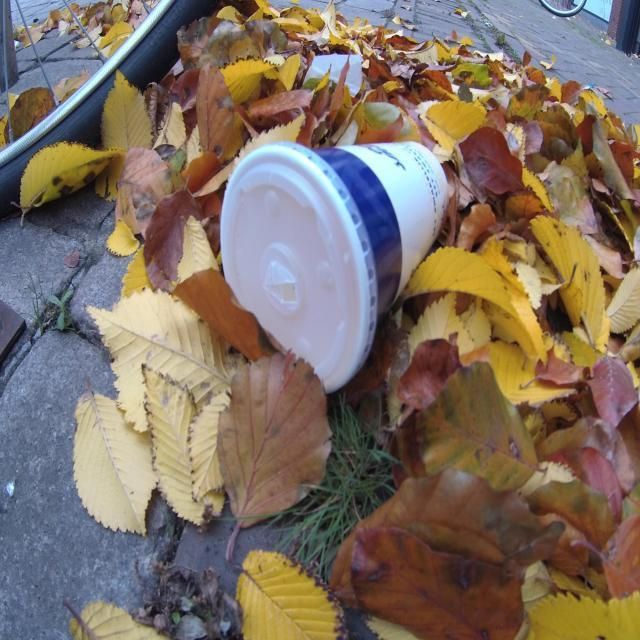Cup: (216, 138, 452, 399)
